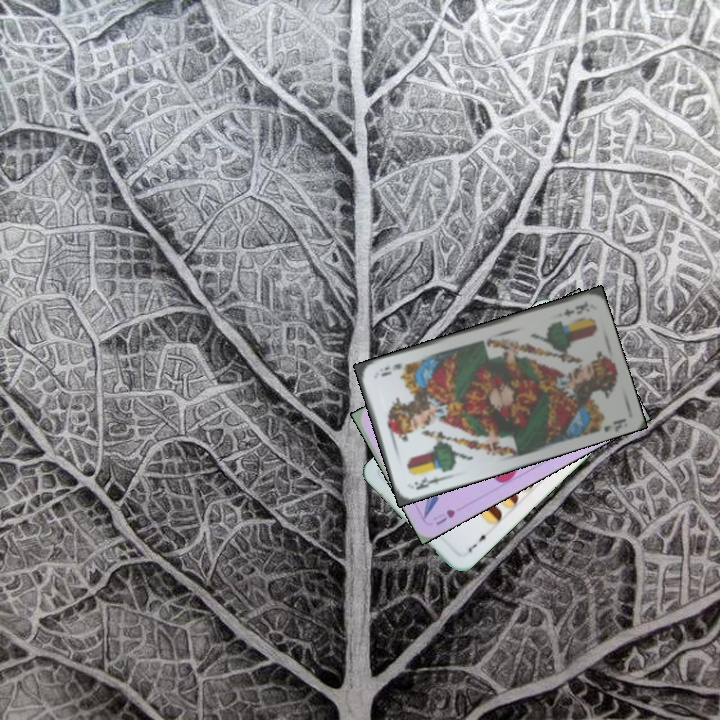E7: (464, 529, 492, 555)
EK: (410, 472, 448, 492), (559, 297, 591, 319)
HU: (429, 505, 458, 528)
